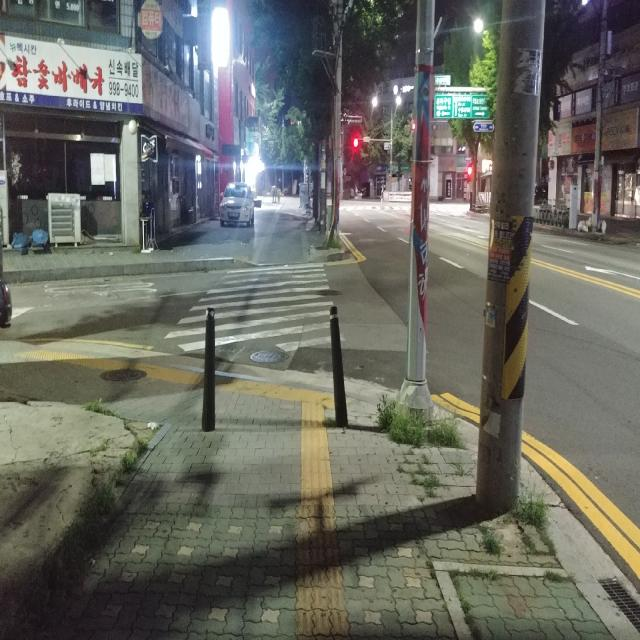횡단보도: (163, 262, 347, 353)
